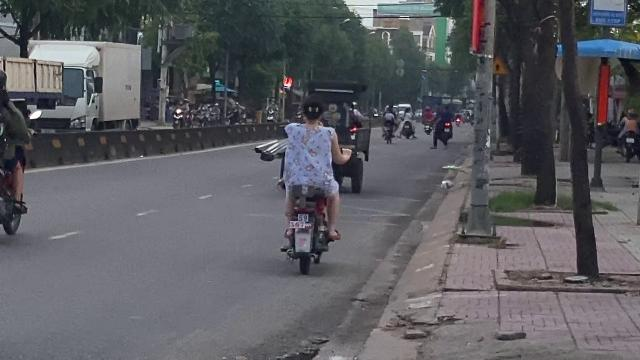motorcyclist: (271, 92, 347, 274)
nohelmet: (298, 94, 326, 126)
